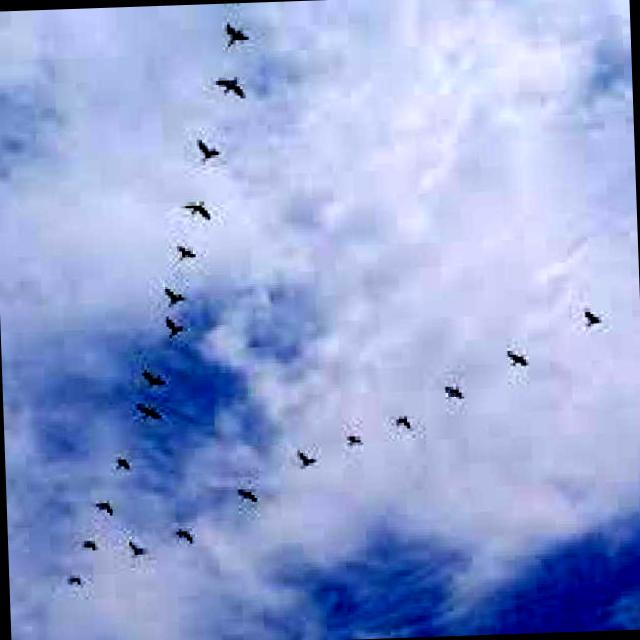bird: (181, 122, 228, 178), (213, 11, 260, 62), (176, 188, 227, 230), (130, 396, 176, 441), (568, 286, 610, 332), (288, 434, 328, 481), (336, 420, 374, 467), (152, 278, 194, 320), (426, 369, 469, 410), (128, 362, 176, 398), (106, 443, 144, 488), (210, 66, 252, 106), (160, 234, 206, 270), (164, 310, 207, 348), (495, 341, 533, 382), (173, 521, 208, 565), (82, 486, 120, 526), (230, 478, 268, 518), (119, 524, 152, 568), (69, 526, 109, 558), (388, 407, 420, 442), (54, 570, 92, 599)
